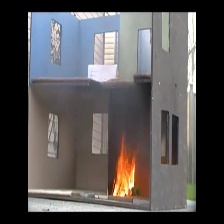fire: (108, 131, 143, 201)
